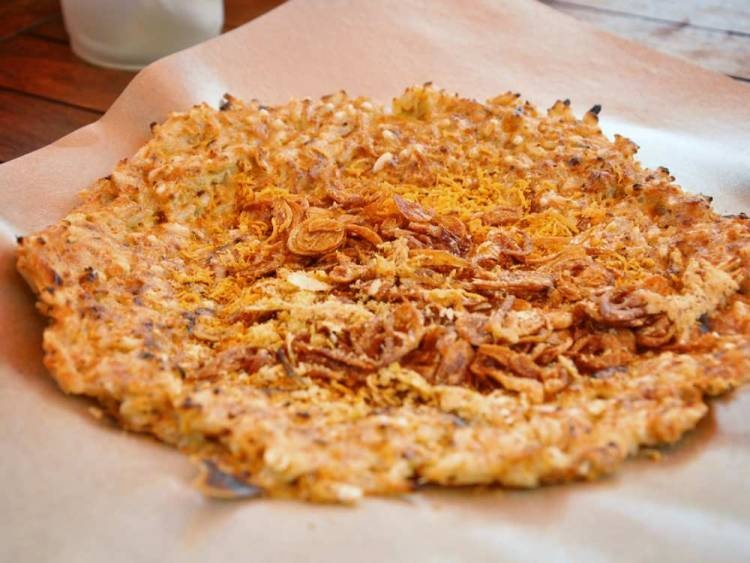kerak_telor: (14, 81, 750, 503)
